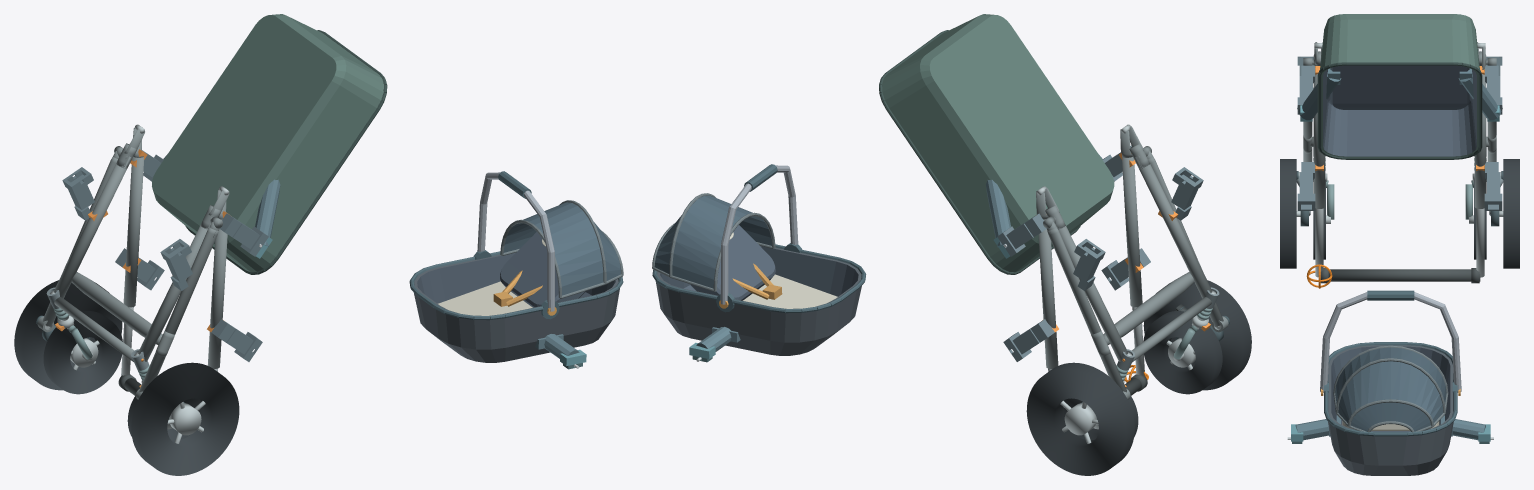
File: D10_w550_state3_wheel_M.glb
3 renders of one model, left to right at view 1: azimuth 30°, elevation 25°; view 2: azimuth 150°, elevation 25°; view 3: azimuth 270°, elevation 25°, orthographic. The views are drawn at different scales.
Parts seen in each view (by area): view 1: D10_Lower, D10_Upper, RL_tire.004, FR_tire.004, RR_tire.004, main_upper_1.005, main_lower_1.005, V46_rear_leg_-1.005, main_upper_-1.005, V46_rearbar.005, main_lower_-1.005, D10_Lower_Mount_M (+9 smaller); view 2: D10_Lower, D10_Upper, RR_tire.004, FL_tire.004, RL_tire.004, main_upper_-1.005, main_lower_-1.005, V46_rear_leg_1.005, main_upper_1.005, V46_rearbar.005, main_lower_1.005, D10_Lower_Mount_M (+9 smaller); view 3: D10_Lower, D10_Upper, RL_tire.004, RR_tire.004, round_handle.004, D10_Lower_Mount_M, D10_Upper_Mount_H, main_upper_1.005, main_upper_-1.005, Universal_Cabin_Receiver_H_1, Universal_Cabin_Receiver_H_-1, handle_slider_1.004 (+10 smaller).
Part boxes in pixels (<box>): D10_Lower: <box>152,14,387,274</box>; D10_Upper: <box>409,171,623,362</box>; RL_tire.004: <box>131,362,239,475</box>; FR_tire.004: <box>43,311,122,394</box>; RR_tire.004: <box>14,280,122,390</box>; main_upper_1.005: <box>123,157,143,307</box>; main_lower_1.005: <box>53,156,130,298</box>; V46_rear_leg_-1.005: <box>139,227,218,392</box>; main_upper_-1.005: <box>207,219,227,368</box>; V46_rearbar.005: <box>71,272,162,344</box>; main_lower_-1.005: <box>138,224,210,361</box>; D10_Lower_Mount_M: <box>163,154,280,258</box>; D10_Lower: <box>879,14,1114,274</box>; D10_Upper: <box>652,164,866,355</box>; RR_tire.004: <box>1026,362,1134,475</box>; FL_tire.004: <box>1143,311,1222,394</box>; RL_tire.004: <box>1143,280,1251,390</box>; main_upper_-1.005: <box>1122,157,1142,307</box>; main_lower_-1.005: <box>1135,157,1212,298</box>; V46_rear_leg_1.005: <box>1047,227,1126,392</box>; main_upper_1.005: <box>1038,219,1058,368</box>; V46_rearbar.005: <box>1103,272,1194,344</box>; main_lower_1.005: <box>1055,224,1127,361</box>; D10_Lower_Mount_M: <box>986,155,1102,258</box>; D10_Lower: <box>1317,14,1482,159</box>; D10_Upper: <box>1320,290,1461,475</box>; RL_tire.004: <box>1280,159,1296,268</box>; RR_tire.004: <box>1503,159,1519,268</box>; round_handle.004: <box>1328,269,1480,281</box>; D10_Lower_Mount_M: <box>1297,68,1502,121</box>; D10_Upper_Mount_H: <box>1287,415,1493,443</box>; main_upper_1.005: <box>1474,72,1486,208</box>; main_upper_-1.005: <box>1313,72,1325,208</box>; Universal_Cabin_Receiver_H_1: <box>1484,162,1502,210</box>; Universal_Cabin_Receiver_H_-1: <box>1297,162,1315,210</box>; handle_slider_1.004: <box>1476,208,1484,277</box>.
Size of the model in its own units: 1.59 by 1.01 by 0.656.
